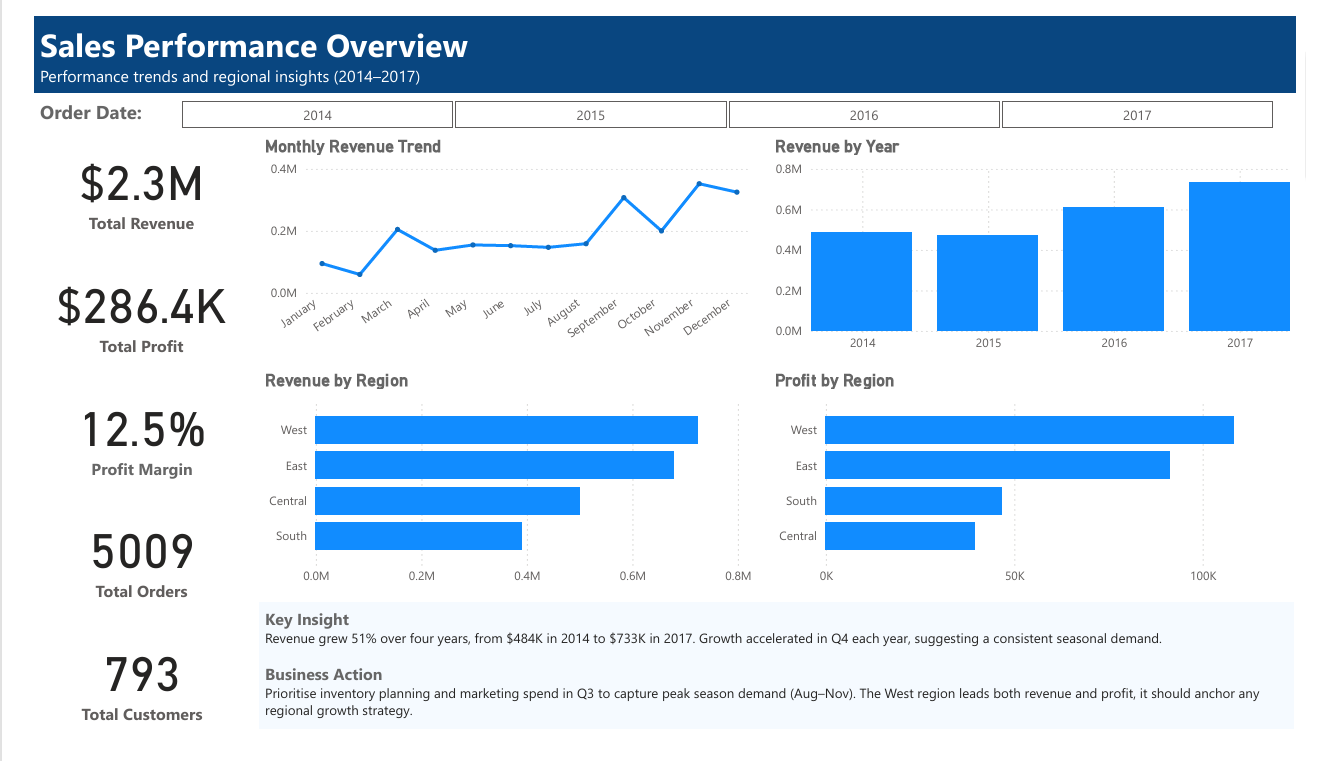

What the dashboard file says about the page in this screenshot:
{"tool":"powerbi","page":{"name":"Sales Overview","canvas":[1280,720],"ordinal":0},"visuals":[{"type":"textbox","box":[9.2,0,1261.7,76.6],"z":0},{"type":"card","fields":{"Values":["public superstore.Total Revenue"]},"box":[8.4,118.8,214.3,103.2],"z":2000},{"type":"card","fields":{"Values":["public superstore.Total Profit"]},"box":[8.5,242.1,214,102.7],"z":3000},{"type":"card","fields":{"Values":["public superstore.Profit Margin"]},"box":[8.5,364.9,214.6,102.7],"z":4000},{"type":"card","fields":{"Values":["public superstore.Total Orders"]},"box":[8.5,487.7,214,102.7],"z":5000},{"type":"card","fields":{"Values":["public superstore.Total Customers"]},"box":[9.2,610.6,214,102.7],"z":6000},{"type":"lineChart","title":" Monthly Revenue Trend ","fields":{"Category":["public superstore.order_date.Variation.Date Hierarchy.Month"],"Y":["public superstore.Total Revenue"]},"box":[233.8,118.8,497.4,225.3],"z":7000},{"type":"clusteredColumnChart","title":"Revenue by Year","fields":{"Y":["public superstore.Total Revenue"],"Category":["public superstore.order_date.Variation.Date Hierarchy.Year"]},"box":[743.5,118.8,526,225.3],"z":8000},{"type":"clusteredBarChart","title":"Revenue by Region","fields":{"Category":["public superstore.region"],"Y":["public superstore.Total Revenue"]},"box":[234.4,352.6,496.8,224.7],"z":9000},{"type":"slicer","fields":{"Values":["public superstore.order_date.Variation.Date Hierarchy.Year"]},"box":[130.2,76.6,1140.6,35.3],"z":10000},{"type":"textbox","box":[8.5,76.6,121.1,35.3],"z":11000},{"type":"clusteredBarChart","title":"Profit by Region","fields":{"Category":["public superstore.region"],"Y":["public superstore.Total Profit"]},"box":[744.2,352.6,527.3,224.7],"z":12000},{"type":"textbox","box":[234.4,586.4,1035.1,126.6],"z":13000}]}

Visuals, with their boxes in screenshot pixels (x1, y1, x2, y2), scaled from the page's 1280x720 canvas onto the 1327x761 screenshot:
textbox: 10/0/1318/81
card - public superstore.Total Revenue: 9/126/231/235
card - public superstore.Total Profit: 9/256/231/364
card - public superstore.Profit Margin: 9/386/231/494
card - public superstore.Total Orders: 9/515/231/624
card - public superstore.Total Customers: 10/645/231/754
" Monthly Revenue Trend " lineChart: 242/126/758/364
"Revenue by Year" clusteredColumnChart: 771/126/1316/364
"Revenue by Region" clusteredBarChart: 243/373/758/610
slicer - public superstore.order_date.Variation.Date Hierarchy.Year: 135/81/1317/118
textbox: 9/81/134/118
"Profit by Region" clusteredBarChart: 772/373/1318/610
textbox: 243/620/1316/754
